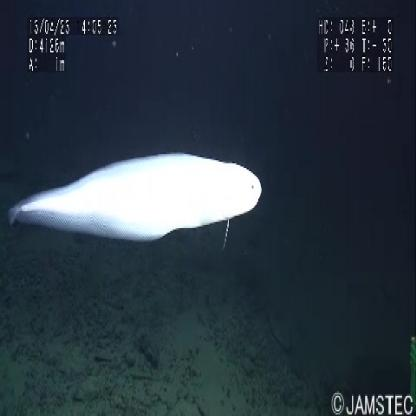Bio: (8, 148, 267, 242)
